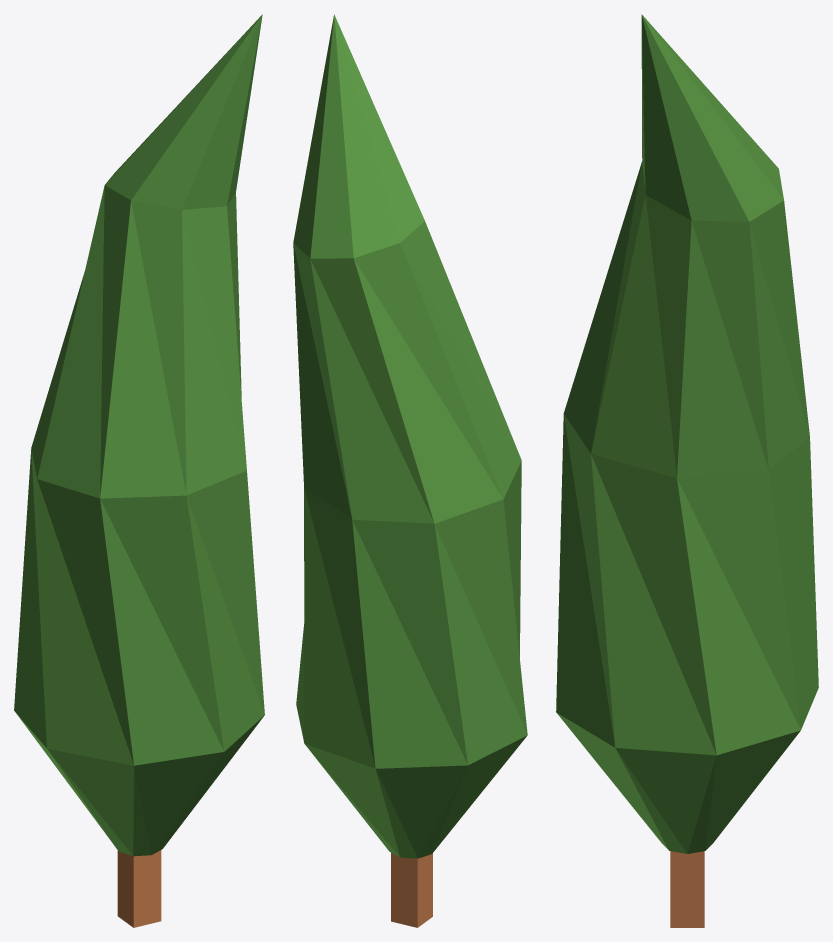
The model's file is tree_type_01_bended.fbx.
The picture shows the model from 3 angles, left to right: view 1: azimuth 30°, elevation 25°; view 2: azimuth 150°, elevation 25°; view 3: azimuth 270°, elevation 25°; orthographic projection. The views are drawn at different scales.
Parts seen in each view (by area): view 1: tree_type_01_bended; view 2: tree_type_01_bended; view 3: tree_type_01_bended.
Boxes of the visible parts, x1=… form: tree_type_01_bended: x1=14, y1=14, x2=264, y2=927; tree_type_01_bended: x1=293, y1=14, x2=527, y2=927; tree_type_01_bended: x1=556, y1=14, x2=818, y2=927.
Size of the model in its own units: 307 by 1238 by 307.
Materials: 1 (1 with a texture image).
